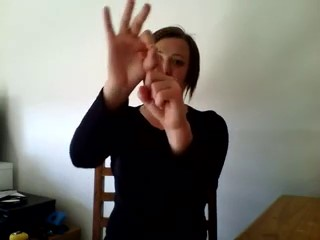Q: (99, 2, 191, 135)
